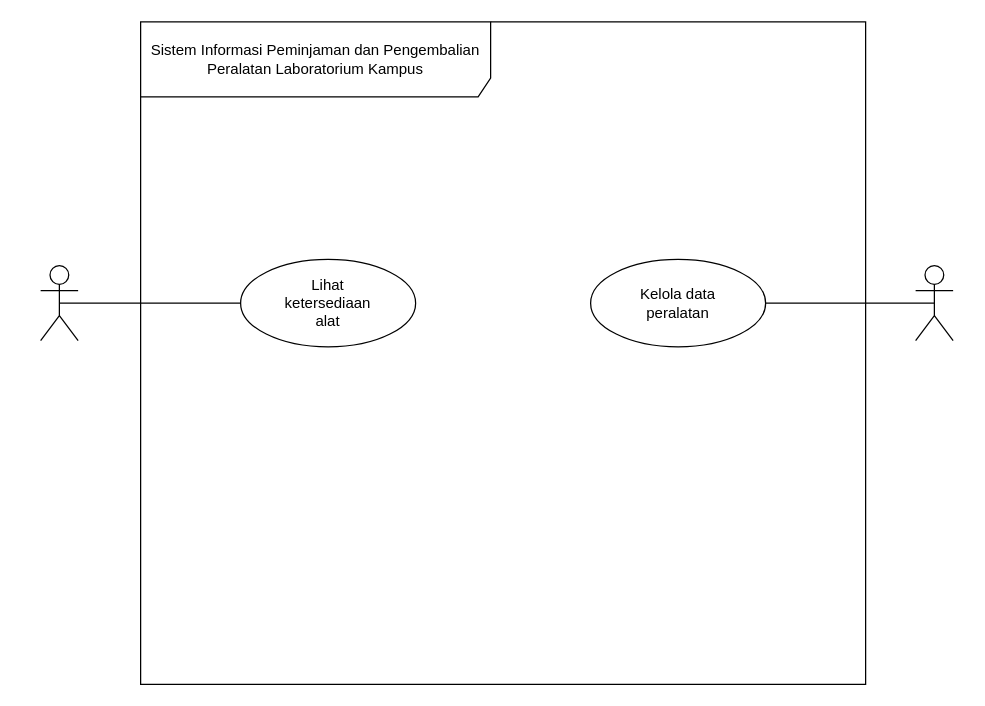
This 985x706 diagram has some shape labels left out. Each missing label, with the centre of its shape:
"Mahasiswa" goes at (58,302).
"Petugas Laboran" goes at (933,302).
